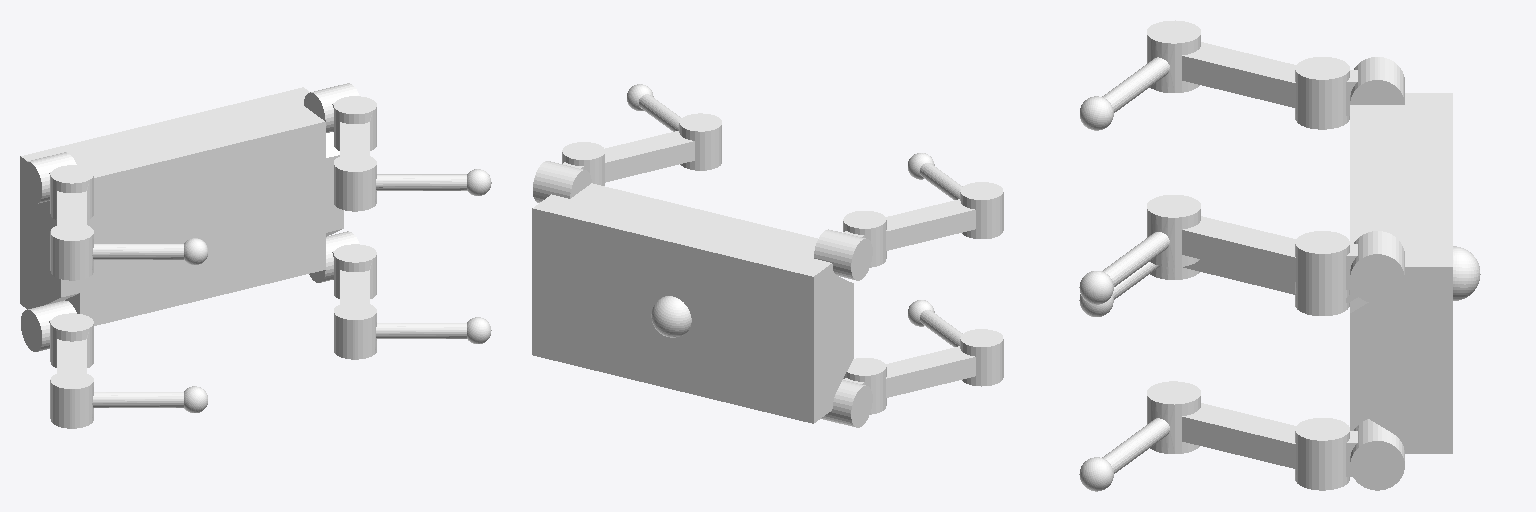
--- Facts derived from the render (not from the file) ---
3 views of the same robot in one strip: view 1: azimuth 30°, elevation 25°; view 2: azimuth 150°, elevation 25°; view 3: azimuth 270°, elevation 25° (orthographic).
Robot: quadruped — 18 links, 17 joints (12 revolute, 5 fixed); root link base; default pose: every joint at zero.
Links seen in each view (by area): view 1: base, RF_KNEE, LH_KNEE, RH_KNEE, LF_KNEE, RH_SHANK, LH_SHANK, LF_SHANK, RF_SHANK, RH_HIP, LH_HIP, RF_HIP (+5 smaller); view 2: base, RH_SHANK, LH_SHANK, RF_SHANK, RH_KNEE, LH_KNEE, RF_KNEE, RH_HIP, RF_HIP, LH_HIP, center_of_mass; view 3: base, RF_SHANK, RH_SHANK, LF_SHANK, LF_KNEE, RF_KNEE, RH_KNEE, RF_HIP, LF_HIP, RH_HIP, LH_SHANK, center_of_mass (+4 smaller).
Link boxes in pixels (left/top/right/bottom): base: left=20, top=87, right=343, bottom=325; RF_KNEE: left=334, top=154, right=466, bottom=211; LH_KNEE: left=50, top=371, right=183, bottom=428; RH_KNEE: left=50, top=223, right=183, bottom=280; LF_KNEE: left=334, top=302, right=466, bottom=359; RH_SHANK: left=50, top=165, right=93, bottom=224; LH_SHANK: left=50, top=313, right=93, bottom=372; LF_SHANK: left=334, top=244, right=376, bottom=303; RF_SHANK: left=334, top=96, right=376, bottom=155; RH_HIP: left=21, top=152, right=76, bottom=203; LH_HIP: left=21, top=300, right=76, bottom=351; RF_HIP: left=304, top=83, right=359, bottom=132; base: left=532, top=183, right=853, bottom=423; RH_SHANK: left=843, top=199, right=975, bottom=267; LH_SHANK: left=843, top=346, right=975, bottom=414; RF_SHANK: left=562, top=131, right=694, bottom=185; RH_KNEE: left=920, top=163, right=1003, bottom=238; LH_KNEE: left=920, top=310, right=1003, bottom=386; RF_KNEE: left=639, top=94, right=721, bottom=170; RH_HIP: left=814, top=229, right=872, bottom=280; RF_HIP: left=533, top=161, right=591, bottom=202; LH_HIP: left=821, top=378, right=872, bottom=427; center_of_mass: left=651, top=296, right=691, bottom=337; base: left=1350, top=93, right=1452, bottom=453; RF_SHANK: left=1182, top=216, right=1349, bottom=303; RH_SHANK: left=1182, top=42, right=1349, bottom=129; LF_SHANK: left=1182, top=403, right=1349, bottom=490; LF_KNEE: left=1102, top=381, right=1200, bottom=473; RF_KNEE: left=1102, top=195, right=1200, bottom=286; RH_KNEE: left=1102, top=20, right=1200, bottom=112; RF_HIP: left=1346, top=231, right=1404, bottom=303; LF_HIP: left=1346, top=419, right=1404, bottom=490; RH_HIP: left=1346, top=57, right=1404, bottom=115; LH_SHANK: left=1183, top=259, right=1349, bottom=315; center_of_mass: left=1453, top=246, right=1480, bottom=300.
Size in the robot's own frame: 0.8597 by 0.5839 by 0.38 metres.
18 mesh visuals loaded from 18 distinct referenced files (18 binary STL).

The robot description file, URDF, robot "quadruped":
<?xml version="1.0"?>
<robot
  name="quadruped">
  <link
    name="base">
    <inertial>
      <origin
        xyz="1.38777878078145E-17 -0.0740143074166761 1.11022302462516E-16"
        rpy="0 0 0" />
      <mass
        value="0.4" />
      <inertia
        ixx="0.1"
        ixy="0"
        ixz="0"
        iyy="0.1"
        iyz="0"
        izz="0.1" />
    </inertial>
    <visual>
      <origin
        xyz="0 0 0"
        rpy="0 0 0" />
      <geometry>
        <mesh
          filename="package://quadruped/meshes/base.STL" />
      </geometry>
      <material
        name="">
        <color
          rgba="1 1 1 1" />
      </material>
    </visual>
    <collision>
      <origin
        xyz="0 0 0"
        rpy="0 0 0" />
      <geometry>
        <mesh
          filename="package://quadruped/meshes/base.STL" />
      </geometry>
    </collision>
  </link>
  <link
    name="center_of_mass">
    <inertial>
      <origin
        xyz="1.38777878078145E-17 0 0"
        rpy="0 0 0" />
      <mass
        value="5" />
      <inertia
        ixx="0.1"
        ixy="0"
        ixz="0"
        iyy="0.1"
        iyz="0"
        izz="0.1" />
    </inertial>
    <visual>
      <origin
        xyz="0 0 0"
        rpy="0 0 0" />
      <geometry>
        <mesh
          filename="package://quadruped/meshes/center_of_mass.STL" />
      </geometry>
      <material
        name="">
        <color
          rgba="1 1 1 1" />
      </material>
    </visual>
    <collision>
      <origin
        xyz="0 0 0"
        rpy="0 0 0" />
      <geometry>
        <mesh
          filename="package://quadruped/meshes/center_of_mass.STL" />
      </geometry>
    </collision>
  </link>
  <joint
    name="center_of_mass"
    type="fixed">
    <origin
      xyz="0 0 0"
      rpy="7.7037E-34 0.022534 -1.8128E-16" />
    <parent
      link="base" />
    <child
      link="center_of_mass" />
    <axis
      xyz="0 0 0" />
  </joint>
  <link
    name="LF_HIP">
    <inertial>
      <origin
        xyz="5.55111512312578E-17 -0.00603191577528073 0"
        rpy="0 0 0" />
      <mass
        value="0.413475328046838" />
      <inertia
        ixx="0.1"
        ixy="0"
        ixz="0"
        iyy="0.1"
        iyz="0"
        izz="0.1" />
    </inertial>
    <visual>
      <origin
        xyz="0 0 0"
        rpy="0 0 0" />
      <geometry>
        <mesh
          filename="package://quadruped/meshes/LF_HIP.STL" />
      </geometry>
      <material
        name="">
        <color
          rgba="1 1 1 1" />
      </material>
    </visual>
    <collision>
      <origin
        xyz="0 0 0"
        rpy="0 0 0" />
      <geometry>
        <mesh
          filename="package://quadruped/meshes/LF_HIP.STL" />
      </geometry>
    </collision>
  </link>
  <joint
    name="LF_HAA"
    type="revolute">
    <origin
      xyz="0.3 -0.10502 -0.15"
      rpy="2.7756E-16 -5.8981E-17 -1.8128E-16" />
    <parent
      link="base" />
    <child
      link="LF_HIP" />
    <axis
      xyz="1 0 0" />
    <limit
      lower="-1.57"
      upper="1.57"
      effort="80"
      velocity="7" />
  </joint>
  <link
    name="LF_SHANK">
    <inertial>
      <origin
        xyz="-6.93889390390723E-17 -0.0664457851504855 0"
        rpy="0 0 0" />
      <mass
        value="0.791190416472512" />
      <inertia
        ixx="0.1"
        ixy="0"
        ixz="0"
        iyy="0.1"
        iyz="0"
        izz="0.1" />
    </inertial>
    <visual>
      <origin
        xyz="0 0 0"
        rpy="0 0 0" />
      <geometry>
        <mesh
          filename="package://quadruped/meshes/LF_SHANK.STL" />
      </geometry>
      <material
        name="">
        <color
          rgba="1 1 1 1" />
      </material>
    </visual>
    <collision>
      <origin
        xyz="0 0 0"
        rpy="0 0 0" />
      <geometry>
        <mesh
          filename="package://quadruped/meshes/LF_SHANK.STL" />
      </geometry>
    </collision>
  </link>
  <joint
    name="LF_HFE"
    type="revolute">
    <origin
      xyz="0.0024886 -0.080667 0"
      rpy="-2.5153E-16 -1.2143E-16 -0.5236" />
    <parent
      link="LF_HIP" />
    <child
      link="LF_SHANK" />
    <axis
      xyz="0 0 1" />
    <limit
      lower="-3.14"
      upper="3.14"
      effort="80"
      velocity="7" />
  </joint>
  <link
    name="LF_KNEE">
    <inertial>
      <origin
        xyz="0.0283889333015588 2.25673227272072E-07 -2.79728842866867E-08"
        rpy="0 0 0" />
      <mass
        value="0.517428787817436" />
      <inertia
        ixx="0.1"
        ixy="0"
        ixz="0"
        iyy="0.1"
        iyz="0"
        izz="0.1" />
    </inertial>
    <visual>
      <origin
        xyz="0 0 0"
        rpy="0 0 0" />
      <geometry>
        <mesh
          filename="package://quadruped/meshes/LF_KNEE.STL" />
      </geometry>
      <material
        name="">
        <color
          rgba="1 1 1 1" />
      </material>
    </visual>
    <collision>
      <origin
        xyz="0 0 0"
        rpy="0 0 0" />
      <geometry>
        <mesh
          filename="package://quadruped/meshes/LF_KNEE.STL" />
      </geometry>
    </collision>
  </link>
  <joint
    name="LF_KFE"
    type="revolute">
    <origin
      xyz="-0.0014584 -0.25498 0"
      rpy="0 0 1.61E-17" />
    <parent
      link="LF_SHANK" />
    <child
      link="LF_KNEE" />
    <axis
      xyz="0 0 1" />
    <limit
      lower="-3.14"
      upper="3.14"
      effort="80"
      velocity="7" />
  </joint>
  <link
    name="LF_FOOT">
    <inertial>
      <origin
        xyz="0 0 0"
        rpy="0 0 0" />
      <mass
        value="0.0654498469497874" />
      <inertia
        ixx="0.1"
        ixy="0"
        ixz="0"
        iyy="0.1"
        iyz="0"
        izz="0.1" />
    </inertial>
    <visual>
      <origin
        xyz="0 0 0"
        rpy="0 0 0" />
      <geometry>
        <mesh
          filename="package://quadruped/meshes/LF_FOOT.STL" />
      </geometry>
      <material
        name="">
        <color
          rgba="1 1 1 1" />
      </material>
    </visual>
    <collision>
      <origin
        xyz="0 0 0"
        rpy="0 0 0" />
      <geometry>
        <mesh
          filename="package://quadruped/meshes/LF_FOOT.STL" />
      </geometry>
    </collision>
  </link>
  <joint
    name="LF_FOOT"
    type="fixed">
    <origin
      xyz="0.22646 0 0"
      rpy="0 0 1.61E-17" />
    <parent
      link="LF_KNEE" />
    <child
      link="LF_FOOT" />
    <axis
      xyz="0 0 0" />
  </joint>
  <link
    name="RF_HIP">
    <inertial>
      <origin
        xyz="5.55111512312578E-17 -0.00603191577528073 1.11022302462516E-16"
        rpy="0 0 0" />
      <mass
        value="0.413475328046837" />
      <inertia
        ixx="0.1"
        ixy="0"
        ixz="0"
        iyy="0.1"
        iyz="0"
        izz="0.1" />
    </inertial>
    <visual>
      <origin
        xyz="0 0 0"
        rpy="0 0 0" />
      <geometry>
        <mesh
          filename="package://quadruped/meshes/RF_HIP.STL" />
      </geometry>
      <material
        name="">
        <color
          rgba="1 1 1 1" />
      </material>
    </visual>
    <collision>
      <origin
        xyz="0 0 0"
        rpy="0 0 0" />
      <geometry>
        <mesh
          filename="package://quadruped/meshes/RF_HIP.STL" />
      </geometry>
    </collision>
  </link>
  <joint
    name="RF_HAA"
    type="revolute">
    <origin
      xyz="0.3 -0.10502 0.15"
      rpy="2.3592E-16 -6.9389E-17 -1.8128E-16" />
    <parent
      link="base" />
    <child
      link="RF_HIP" />
    <axis
      xyz="1 0 0" />
    <limit
      lower="-1.57"
      upper="1.57"
      effort="80"
      velocity="7" />
  </joint>
  <link
    name="RF_SHANK">
    <inertial>
      <origin
        xyz="-1.38777878078145E-17 -0.0664457851504854 -1.11022302462516E-16"
        rpy="0 0 0" />
      <mass
        value="0.791190416472513" />
      <inertia
        ixx="0.1"
        ixy="0"
        ixz="0"
        iyy="0.1"
        iyz="0"
        izz="0.1" />
    </inertial>
    <visual>
      <origin
        xyz="0 0 0"
        rpy="0 0 0" />
      <geometry>
        <mesh
          filename="package://quadruped/meshes/RF_SHANK.STL" />
      </geometry>
      <material
        name="">
        <color
          rgba="1 1 1 1" />
      </material>
    </visual>
    <collision>
      <origin
        xyz="0 0 0"
        rpy="0 0 0" />
      <geometry>
        <mesh
          filename="package://quadruped/meshes/RF_SHANK.STL" />
      </geometry>
    </collision>
  </link>
  <joint
    name="RF_HFE"
    type="revolute">
    <origin
      xyz="0.0024886 -0.080667 0"
      rpy="-2.6888E-16 -6.9389E-18 -0.5236" />
    <parent
      link="RF_HIP" />
    <child
      link="RF_SHANK" />
    <axis
      xyz="0 0 1" />
    <limit
      lower="-3.14"
      upper="3.14"
      effort="80"
      velocity="7" />
  </joint>
  <link
    name="RF_KNEE">
    <inertial>
      <origin
        xyz="0.0283889333015588 2.2567322716105E-07 -2.79728843421978E-08"
        rpy="0 0 0" />
      <mass
        value="0.517428787817436" />
      <inertia
        ixx="0.1"
        ixy="0"
        ixz="0"
        iyy="0.1"
        iyz="0"
        izz="0.1" />
    </inertial>
    <visual>
      <origin
        xyz="0 0 0"
        rpy="0 0 0" />
      <geometry>
        <mesh
          filename="package://quadruped/meshes/RF_KNEE.STL" />
      </geometry>
      <material
        name="">
        <color
          rgba="1 1 1 1" />
      </material>
    </visual>
    <collision>
      <origin
        xyz="0 0 0"
        rpy="0 0 0" />
      <geometry>
        <mesh
          filename="package://quadruped/meshes/RF_KNEE.STL" />
      </geometry>
    </collision>
  </link>
  <joint
    name="RF_KFE"
    type="revolute">
    <origin
      xyz="-0.0014584 -0.25498 0"
      rpy="0 -3.4694E-18 1.4122E-17" />
    <parent
      link="RF_SHANK" />
    <child
      link="RF_KNEE" />
    <axis
      xyz="0 0 1" />
    <limit
      lower="-3.14"
      upper="3.14"
      effort="80"
      velocity="7" />
  </joint>
  <link
    name="RF_FOOT">
    <inertial>
      <origin
        xyz="0 0 0"
        rpy="0 0 0" />
      <mass
        value="0.0654498469497874" />
      <inertia
        ixx="0.1"
        ixy="0"
        ixz="0"
        iyy="0.1"
        iyz="0"
        izz="0.1" />
    </inertial>
    <visual>
      <origin
        xyz="0 0 0"
        rpy="0 0 0" />
      <geometry>
        <mesh
          filename="package://quadruped/meshes/RF_FOOT.STL" />
      </geometry>
      <material
        name="">
        <color
          rgba="1 1 1 1" />
      </material>
    </visual>
    <collision>
      <origin
        xyz="0 0 0"
        rpy="0 0 0" />
      <geometry>
        <mesh
          filename="package://quadruped/meshes/RF_FOOT.STL" />
      </geometry>
    </collision>
  </link>
  <joint
    name="RF_FOOT"
    type="fixed">
    <origin
      xyz="0.22646 0 0"
      rpy="0 -3.4694E-18 1.4122E-17" />
    <parent
      link="RF_KNEE" />
    <child
      link="RF_FOOT" />
    <axis
      xyz="0 0 0" />
  </joint>
  <link
    name="RH_HIP">
    <inertial>
      <origin
        xyz="-5.55111512312578E-17 -0.00603191577528073 0"
        rpy="0 0 0" />
      <mass
        value="0.413475328046837" />
      <inertia
        ixx="0.1"
        ixy="0"
        ixz="0"
        iyy="0.1"
        iyz="0"
        izz="0.1" />
    </inertial>
    <visual>
      <origin
        xyz="0 0 0"
        rpy="0 0 0" />
      <geometry>
        <mesh
          filename="package://quadruped/meshes/RH_HIP.STL" />
      </geometry>
      <material
        name="">
        <color
          rgba="1 1 1 1" />
      </material>
    </visual>
    <collision>
      <origin
        xyz="0 0 0"
        rpy="0 0 0" />
      <geometry>
        <mesh
          filename="package://quadruped/meshes/RH_HIP.STL" />
      </geometry>
    </collision>
  </link>
  <joint
    name="RH_HAA"
    type="revolute">
    <origin
      xyz="-0.3 -0.10502 0.15"
      rpy="3.6776E-16 -6.5919E-17 -1.8128E-16" />
    <parent
      link="base" />
    <child
      link="RH_HIP" />
    <axis
      xyz="1 0 0" />
    <limit
      lower="-1.57"
      upper="1.57"
      effort="80"
      velocity="7" />
  </joint>
  <link
    name="RH_SHANK">
    <inertial>
      <origin
        xyz="5.55111512312578E-17 -0.0664457851504854 0"
        rpy="0 0 0" />
      <mass
        value="0.791190416472513" />
      <inertia
        ixx="0.1"
        ixy="0"
        ixz="0"
        iyy="0.1"
        iyz="0"
        izz="0.1" />
    </inertial>
    <visual>
      <origin
        xyz="0 0 0"
        rpy="0 0 0" />
      <geometry>
        <mesh
          filename="package://quadruped/meshes/RH_SHANK.STL" />
      </geometry>
      <material
        name="">
        <color
          rgba="1 1 1 1" />
      </material>
    </visual>
    <collision>
      <origin
        xyz="0 0 0"
        rpy="0 0 0" />
      <geometry>
        <mesh
          filename="package://quadruped/meshes/RH_SHANK.STL" />
      </geometry>
    </collision>
  </link>
  <joint
    name="RH_HFE"
    type="revolute">
    <origin
      xyz="0.0024886 -0.080667 0"
      rpy="-5.4991E-16 2.1164E-16 -0.5236" />
    <parent
      link="RH_HIP" />
    <child
      link="RH_SHANK" />
    <axis
      xyz="0 0 1" />
    <limit
      lower="-3.14"
      upper="3.14"
      effort="80"
      velocity="7" />
  </joint>
  <link
    name="RH_KNEE">
    <inertial>
      <origin
        xyz="0.0283889333015588 2.25673227202683E-07 -2.79728842311755E-08"
        rpy="0 0 0" />
      <mass
        value="0.517428787817437" />
      <inertia
        ixx="0.1"
        ixy="0"
        ixz="0"
        iyy="0.1"
        iyz="0"
        izz="0.1" />
    </inertial>
    <visual>
      <origin
        xyz="0 0 0"
        rpy="0 0 0" />
      <geometry>
        <mesh
          filename="package://quadruped/meshes/RH_KNEE.STL" />
      </geometry>
      <material
        name="">
        <color
          rgba="1 1 1 1" />
      </material>
    </visual>
    <collision>
      <origin
        xyz="0 0 0"
        rpy="0 0 0" />
      <geometry>
        <mesh
          filename="package://quadruped/meshes/RH_KNEE.STL" />
      </geometry>
    </collision>
  </link>
  <joint
    name="RH_KFE"
    type="revolute">
    <origin
      xyz="-0.0014584 -0.25498 0"
      rpy="3.8858E-16 -3.4694E-18 7.5894E-18" />
    <parent
      link="RH_SHANK" />
    <child
      link="RH_KNEE" />
    <axis
      xyz="0 0 1" />
    <limit
      lower="-3.14"
      upper="3.14"
      effort="80"
      velocity="7" />
  </joint>
  <link
    name="RH_FOOT">
    <inertial>
      <origin
        xyz="5.55111512312578E-17 0 0"
        rpy="0 0 0" />
      <mass
        value="0.0654498469497874" />
      <inertia
        ixx="0.1"
        ixy="0"
        ixz="0"
        iyy="0.1"
        iyz="0"
        izz="0.1" />
    </inertial>
    <visual>
      <origin
        xyz="0 0 0"
        rpy="0 0 0" />
      <geometry>
        <mesh
          filename="package://quadruped/meshes/RH_FOOT.STL" />
      </geometry>
      <material
        name="">
        <color
          rgba="1 1 1 1" />
      </material>
    </visual>
    <collision>
      <origin
        xyz="0 0 0"
        rpy="0 0 0" />
      <geometry>
        <mesh
          filename="package://quadruped/meshes/RH_FOOT.STL" />
      </geometry>
    </collision>
  </link>
  <joint
    name="RH_FOOT"
    type="fixed">
    <origin
      xyz="0.22646 0 0"
      rpy="-3.8511E-16 -3.4694E-18 1.5125E-17" />
    <parent
      link="RH_KNEE" />
    <child
      link="RH_FOOT" />
    <axis
      xyz="0 0 0" />
  </joint>
  <link
    name="LH_HIP">
    <inertial>
      <origin
        xyz="-2.77555756156289E-17 -0.00603191577528073 -5.55111512312578E-17"
        rpy="0 0 0" />
      <mass
        value="0.413475328046838" />
      <inertia
        ixx="0.1"
        ixy="0"
        ixz="0"
        iyy="0.1"
        iyz="0"
        izz="0.1" />
    </inertial>
    <visual>
      <origin
        xyz="0 0 0"
        rpy="0 0 0" />
      <geometry>
        <mesh
          filename="package://quadruped/meshes/LH_HIP.STL" />
      </geometry>
      <material
        name="">
        <color
          rgba="1 1 1 1" />
      </material>
    </visual>
    <collision>
      <origin
        xyz="0 0 0"
        rpy="0 0 0" />
      <geometry>
        <mesh
          filename="package://quadruped/meshes/LH_HIP.STL" />
      </geometry>
    </collision>
  </link>
  <joint
    name="LH_HAA"
    type="revolute">
    <origin
      xyz="-0.3 -0.10502 -0.15"
      rpy="1.8041E-16 -4.8572E-17 -1.8128E-16" />
    <parent
      link="base" />
    <child
      link="LH_HIP" />
    <axis
      xyz="1 0 0" />
    <limit
      lower="-1.57"
      upper="1.57"
      effort="80"
      velocity="7" />
  </joint>
  <link
    name="LH_SHANK">
    <inertial>
      <origin
        xyz="0 -0.0664457851504854 -1.11022302462516E-16"
        rpy="0 0 0" />
      <mass
        value="0.791190416472512" />
      <inertia
        ixx="0.1"
        ixy="0"
        ixz="0"
        iyy="0.1"
        iyz="0"
        izz="0.1" />
    </inertial>
    <visual>
      <origin
        xyz="0 0 0"
        rpy="0 0 0" />
      <geometry>
        <mesh
          filename="package://quadruped/meshes/LH_SHANK.STL" />
      </geometry>
      <material
        name="">
        <color
          rgba="1 1 1 1" />
      </material>
    </visual>
    <collision>
      <origin
        xyz="0 0 0"
        rpy="0 0 0" />
      <geometry>
        <mesh
          filename="package://quadruped/meshes/LH_SHANK.STL" />
      </geometry>
    </collision>
  </link>
  <joint
    name="LH_HFE"
    type="revolute">
    <origin
      xyz="0.0024886 -0.080667 0"
      rpy="-2.0123E-16 -1.3878E-17 -0.5236" />
    <parent
      link="LH_HIP" />
    <child
      link="LH_SHANK" />
    <axis
      xyz="0 0 1" />
    <limit
      lower="-3.14"
      upper="3.14"
      effort="80"
      velocity="7" />
  </joint>
  <link
    name="LH_KNEE">
    <inertial>
      <origin
        xyz="0.0283889333015588 2.25673227174927E-07 -2.79728843421978E-08"
        rpy="0 0 0" />
      <mass
        value="0.517428787817437" />
      <inertia
        ixx="0.1"
        ixy="0"
        ixz="0"
        iyy="0.1"
        iyz="0"
        izz="0.1" />
    </inertial>
    <visual>
      <origin
        xyz="0 0 0"
        rpy="0 0 0" />
      <geometry>
        <mesh
          filename="package://quadruped/meshes/LH_KNEE.STL" />
      </geometry>
      <material
        name="">
        <color
          rgba="1 1 1 1" />
      </material>
    </visual>
    <collision>
      <origin
        xyz="0 0 0"
        rpy="0 0 0" />
      <geometry>
        <mesh
          filename="package://quadruped/meshes/LH_KNEE.STL" />
      </geometry>
    </collision>
  </link>
  <joint
    name="LH_KFE"
    type="revolute">
    <origin
      xyz="-0.0014584 -0.25498 0"
      rpy="-1.7347E-18 0 1.461E-17" />
    <parent
      link="LH_SHANK" />
    <child
      link="LH_KNEE" />
    <axis
      xyz="0 0 1" />
    <limit
      lower="-3.14"
      upper="3.14"
      effort="80"
      velocity="7" />
  </joint>
  <link
    name="LH_FOOT">
    <inertial>
      <origin
        xyz="4.85722573273506E-15 5.5649929109336E-15 -0.299999999999998"
        rpy="0 0 0" />
      <mass
        value="0.0654498469497874" />
      <inertia
        ixx="0.1"
        ixy="0"
        ixz="0"
        iyy="0.1"
        iyz="0"
        izz="0.1" />
    </inertial>
    <visual>
      <origin
        xyz="0 0 0"
        rpy="0 0 0" />
      <geometry>
        <mesh
          filename="package://quadruped/meshes/LH_FOOT.STL" />
      </geometry>
      <material
        name="">
        <color
          rgba="1 1 1 1" />
      </material>
    </visual>
    <collision>
      <origin
        xyz="0 0 0"
        rpy="0 0 0" />
      <geometry>
        <mesh
          filename="package://quadruped/meshes/LH_FOOT.STL" />
      </geometry>
    </collision>
  </link>
  <joint
    name="LH_FOOT"
    type="fixed">
    <origin
      xyz="0.22646 0 0.3"
      rpy="-1.8041E-16 3.0878E-16 -9.9936E-17" />
    <parent
      link="LH_KNEE" />
    <child
      link="LH_FOOT" />
    <axis
      xyz="0 0 0" />
  </joint>

  <gazebo>
    <plugin name="gazebo_ros_control" filename="libgazebo_ros_control.so">
      <robotSimType>gazebo_ros_control/DefaultRobotHWSim</robotSimType>
      <robotNamespace>/quadruped</robotNamespace>
      <legacyModeNS>true</legacyModeNS>
    </plugin>
  </gazebo>
  

<gazebo reference="LF_FOOT">
  <sensor name="LF_FOOT_contact_sensor" type="contact">
    <always_on>true</always_on>
    <update_rate>120.0</update_rate>
    <contact>
      <collision>LF_FOOT_collision</collision>
    </contact>
    <plugin name="gazebo_ros_bumper_controller_1" filename="libgazebo_ros_bumper.so">
      <bumperTopicName>/LF_FOOT_contact_sensor_state</bumperTopicName>
      <frameName>LF_FOOT</frameName>
    </plugin>
  </sensor>
</gazebo>
  <gazebo reference="RF_FOOT">
  <sensor name="RF_FOOT_contact_sensor" type="contact">
    <always_on>true</always_on>
    <update_rate>120.0</update_rate>
    <contact>
      <collision>RF_FOOT_collision</collision>
    </contact>
    <plugin name="gazebo_ros_bumper_controller" filename="libgazebo_ros_bumper.so">
      <bumperTopicName>/RF_FOOT_contact_sensor_state</bumperTopicName>
      <frameName>RF_FOOT</frameName>
    </plugin>
  </sensor>
</gazebo>


  <transmission name="tran1">
    <type>transmission_interface/SimpleTransmission</type>
    <joint name="LF_HAA">
      <hardwareInterface>hardware_interface/PositionJointInterface</hardwareInterface>
    </joint>
    <actuator name="motor1">
      <hardwareInterface>hardware_interface/PositionJointInterface</hardwareInterface>
      <mechanicalReduction>1</mechanicalReduction>
    </actuator>
  </transmission>

  <transmission name="tran2">
    <type>transmission_interface/SimpleTransmission</type>
    <joint name="LF_HFE">
      <hardwareInterface>hardware_interface/PositionJointInterface</hardwareInterface>
    </joint>
    <actuator name="motor2">
      <hardwareInterface>hardware_interface/PositionJointInterface</hardwareInterface>
      <mechanicalReduction>1</mechanicalReduction>
    </actuator>
  </transmission>

  <transmission name="tran3">
    <type>transmission_interface/SimpleTransmission</type>
    <joint name="LF_KFE">
      <hardwareInterface>hardware_interface/PositionJointInterface</hardwareInterface>
    </joint>
    <actuator name="motor3">
      <hardwareInterface>hardware_interface/PositionJointInterface</hardwareInterface>
      <mechanicalReduction>1</mechanicalReduction>
    </actuator>
  </transmission>

  <transmission name="tran4">
    <type>transmission_interface/SimpleTransmission</type>
    <joint name="LH_HAA">
      <hardwareInterface>hardware_interface/PositionJointInterface</hardwareInterface>
    </joint>
    <actuator name="motor4">
      <hardwareInterface>hardware_interface/PositionJointInterface</hardwareInterface>
      <mechanicalReduction>1</mechanicalReduction>
    </actuator>
  </transmission>

  <transmission name="tran5">
    <type>transmission_interface/SimpleTransmission</type>
    <joint name="LH_HFE">
      <hardwareInterface>hardware_interface/PositionJointInterface</hardwareInterface>
    </joint>
    <actuator name="motor5">
      <hardwareInterface>hardware_interface/PositionJointInterface</hardwareInterface>
      <mechanicalReduction>1</mechanicalReduction>
    </actuator>
  </transmission>

  <transmission name="tran6">
    <type>transmission_interface/SimpleTransmission</type>
    <joint name="LH_KFE">
      <hardwareInterface>hardware_interface/PositionJointInterface</hardwareInterface>
    </joint>
    <actuator name="motor6">
      <hardwareInterface>hardware_interface/PositionJointInterface</hardwareInterface>
      <mechanicalReduction>1</mechanicalReduction>
    </actuator>
  </transmission>

  <transmission name="tran7">
    <type>transmission_interface/SimpleTransmission</type>
    <joint name="RF_HAA">
      <hardwareInterface>hardware_interface/PositionJointInterface</hardwareInterface>
    </joint>
    <actuator name="motor7">
      <hardwareInterface>hardware_interface/PositionJointInterface</hardwareInterface>
      <mechanicalReduction>1</mechanicalReduction>
    </actuator>
  </transmission>
  <transmission name="tran8">
    <type>transmission_interface/SimpleTransmission</type>
    <joint name="RF_HFE">
      <hardwareInterface>hardware_interface/PositionJointInterface</hardwareInterface>
    </joint>
    <actuator name="motor8">
      <hardwareInterface>hardware_interface/PositionJointInterface</hardwareInterface>
      <mechanicalReduction>1</mechanicalReduction>
    </actuator>
  </transmission>

  <transmission name="tran9">
    <type>transmission_interface/SimpleTransmission</type>
    <joint name="RF_KFE">
      <hardwareInterface>hardware_interface/PositionJointInterface</hardwareInterface>
    </joint>
    <actuator name="motor9">
      <hardwareInterface>hardware_interface/PositionJointInterface</hardwareInterface>
      <mechanicalReduction>1</mechanicalReduction>
    </actuator>
  </transmission>

  <transmission name="tran10">
    <type>transmission_interface/SimpleTransmission</type>
    <joint name="RH_HAA">
      <hardwareInterface>hardware_interface/PositionJointInterface</hardwareInterface>
    </joint>
    <actuator name="motor10">
      <hardwareInterface>hardware_interface/PositionJointInterface</hardwareInterface>
      <mechanicalReduction>1</mechanicalReduction>
    </actuator>
  </transmission>

  <transmission name="tran11">
    <type>transmission_interface/SimpleTransmission</type>
    <joint name="RH_HFE">
      <hardwareInterface>hardware_interface/PositionJointInterface</hardwareInterface>
    </joint>
    <actuator name="motor11">
      <hardwareInterface>hardware_interface/PositionJointInterface</hardwareInterface>
      <mechanicalReduction>1</mechanicalReduction>
    </actuator>
  </transmission>

  <transmission name="tran12">
    <type>transmission_interface/SimpleTransmission</type>
    <joint name="RH_KFE">
      <hardwareInterface>hardware_interface/PositionJointInterface</hardwareInterface>
    </joint>
    <actuator name="motor12">
      <hardwareInterface>hardware_interface/PositionJointInterface</hardwareInterface>
      <mechanicalReduction>1</mechanicalReduction>
    </actuator>
  </transmission>
</robot>
